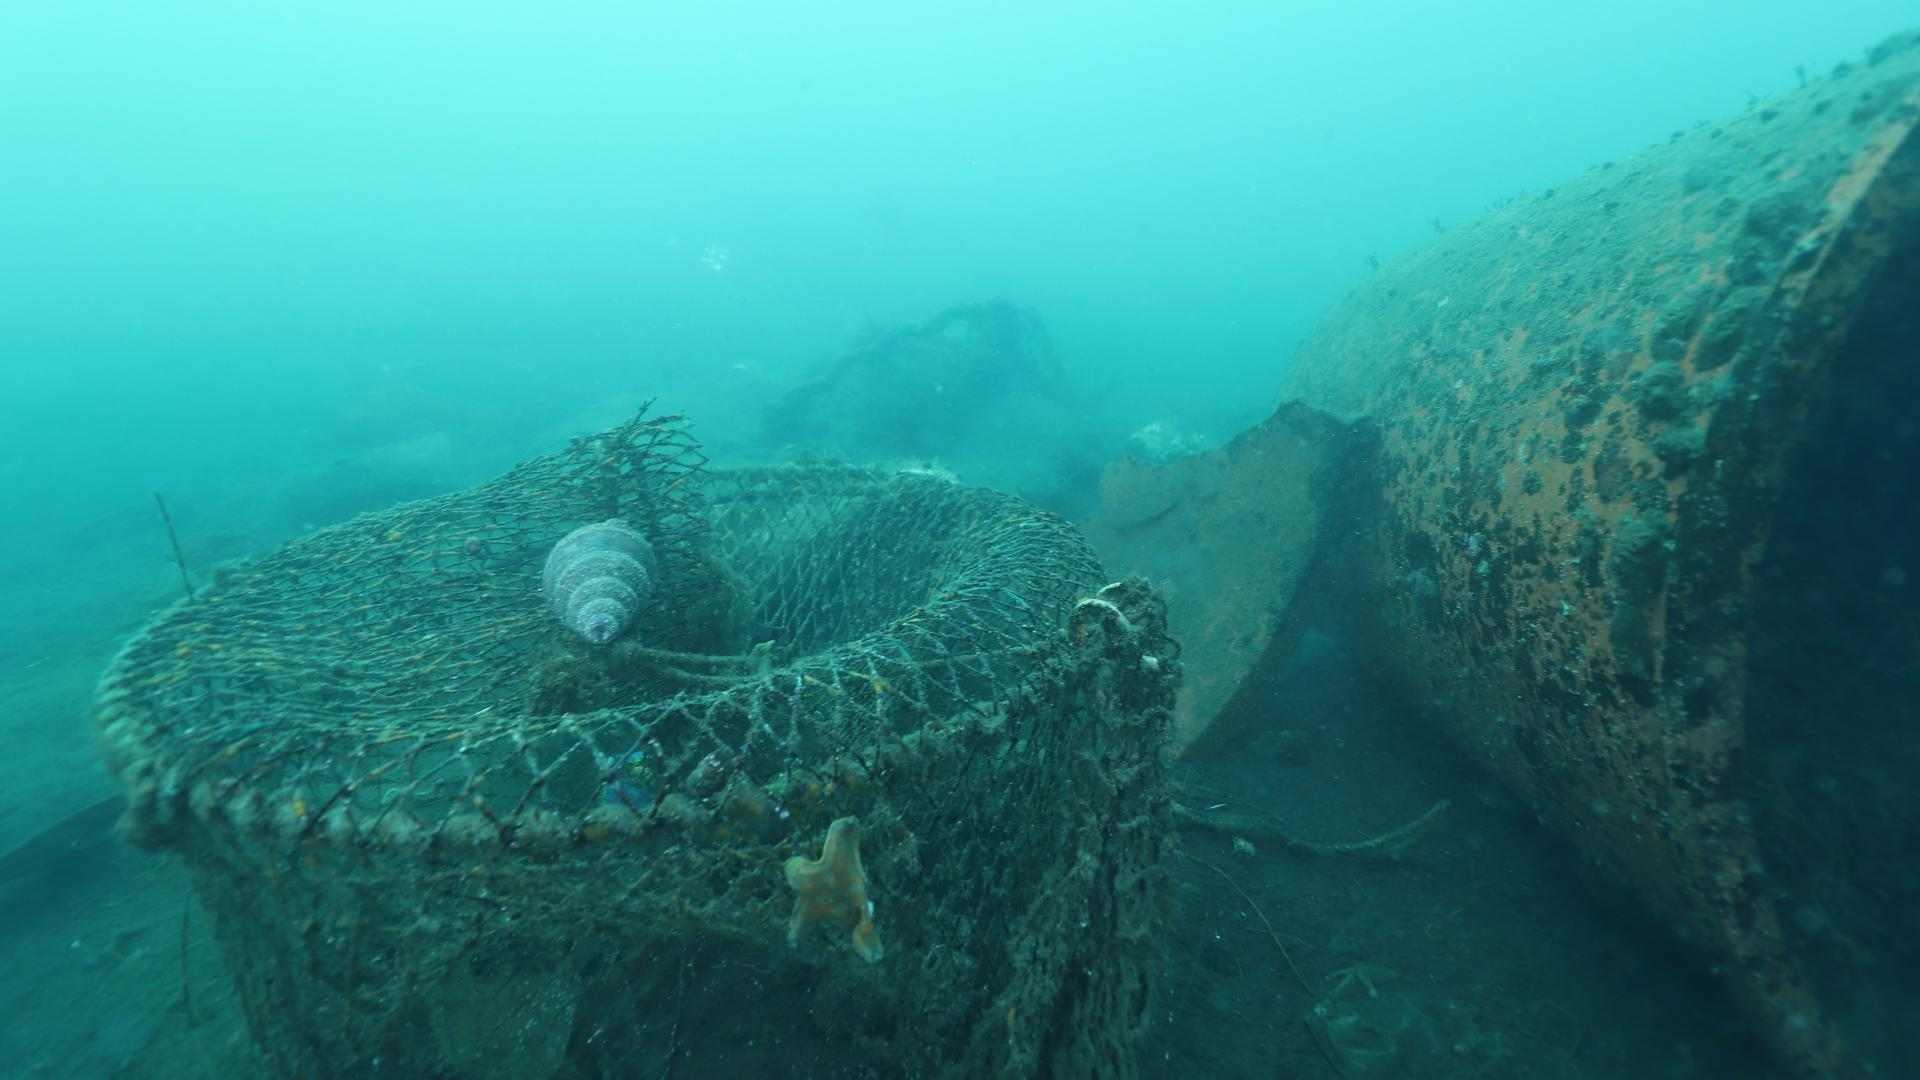circular fish trap: (96, 452, 1167, 1080)
